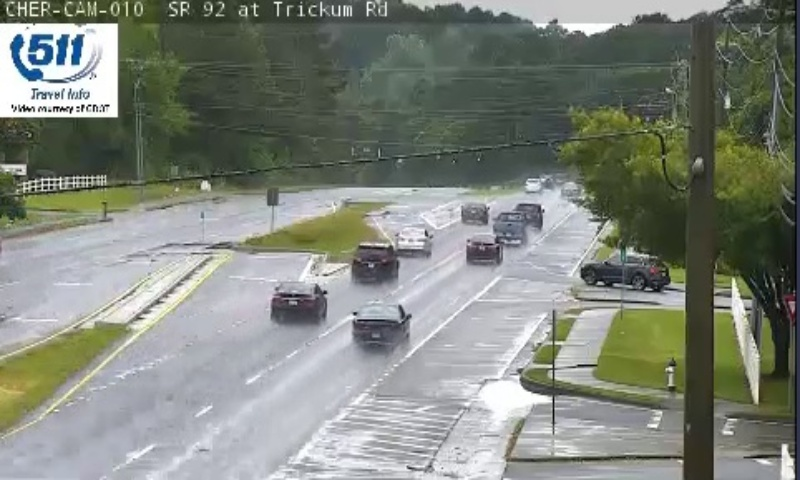car: (351, 304, 409, 346), (270, 280, 325, 318), (351, 242, 396, 280), (465, 233, 502, 262), (491, 211, 526, 241), (396, 227, 429, 254), (512, 202, 542, 229), (460, 203, 489, 223)
